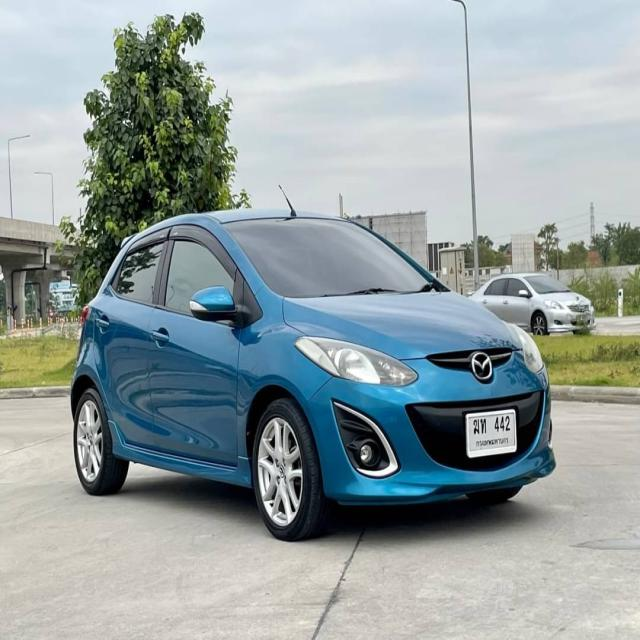license_plate: (462, 405, 521, 464)
